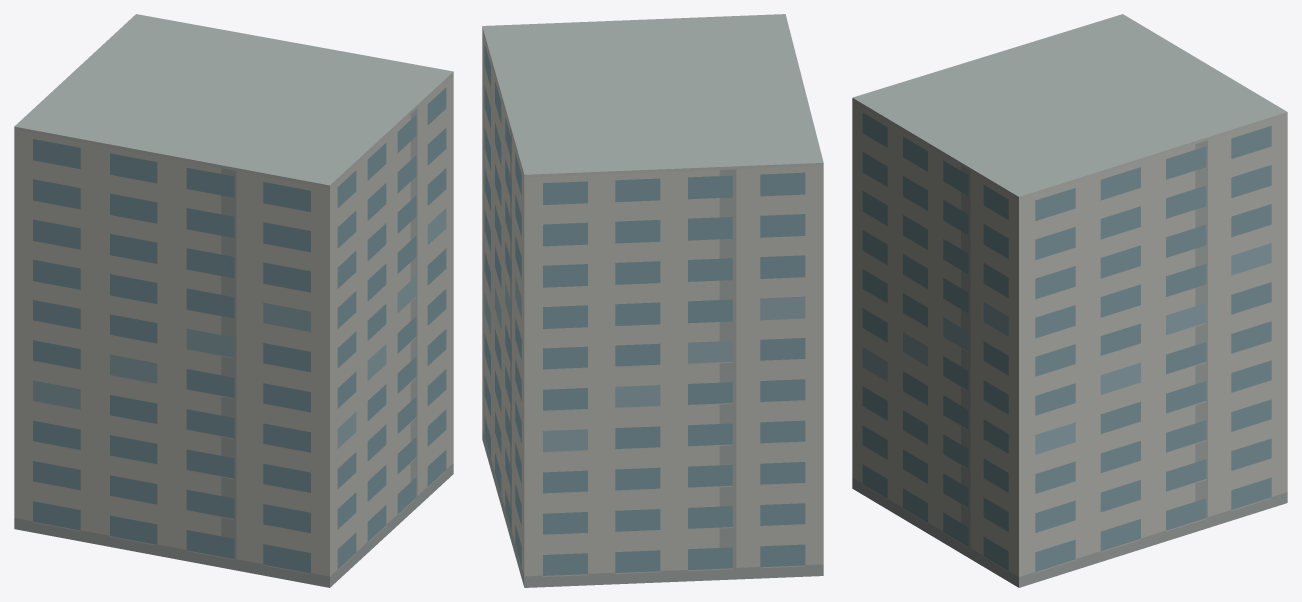
The model's file is residential-2ba3b1df-4bfb-4bb0-8b62-93eacf9ce6bb.glb.
3 renders of one model, left to right at view 1: azimuth 30°, elevation 25°; view 2: azimuth 150°, elevation 25°; view 3: azimuth 270°, elevation 25°, orthographic. The views are drawn at different scales.
Visible parts, largest first — view 1: residential-2ba3b1df-4bfb-4bb0-8b62-93eacf9ce6bb.tmp; view 2: residential-2ba3b1df-4bfb-4bb0-8b62-93eacf9ce6bb.tmp; view 3: residential-2ba3b1df-4bfb-4bb0-8b62-93eacf9ce6bb.tmp.
Boxes of the visible parts, <box> form: residential-2ba3b1df-4bfb-4bb0-8b62-93eacf9ce6bb.tmp: <box>14,14,453,587</box>; residential-2ba3b1df-4bfb-4bb0-8b62-93eacf9ce6bb.tmp: <box>482,14,823,587</box>; residential-2ba3b1df-4bfb-4bb0-8b62-93eacf9ce6bb.tmp: <box>852,14,1287,587</box>.
Size of the model in its own units: 33.14 by 33 by 33.32.
